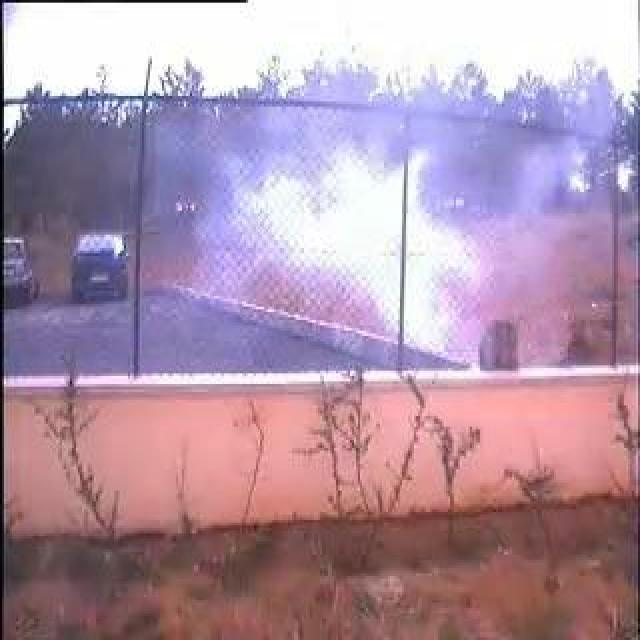Smoke: (207, 151, 557, 369)
